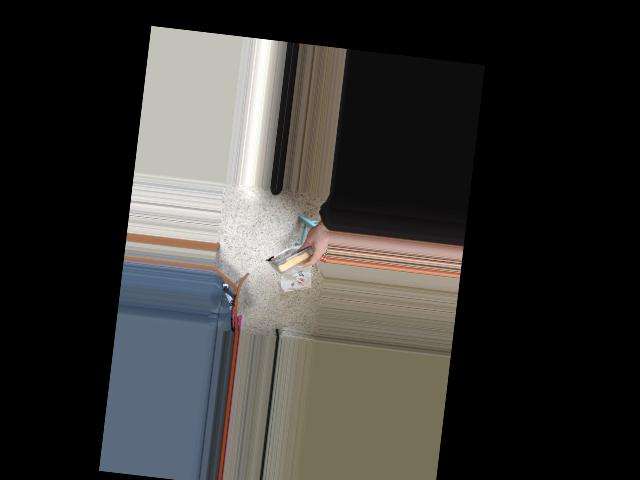cheese: (264, 236, 325, 279)
